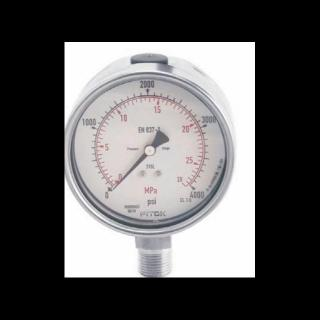gauge: (64, 66, 254, 252), (105, 172, 127, 196), (173, 178, 191, 190), (143, 144, 156, 156), (110, 184, 118, 192)
